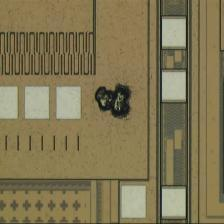PARTICLE: (95, 84, 135, 121)
